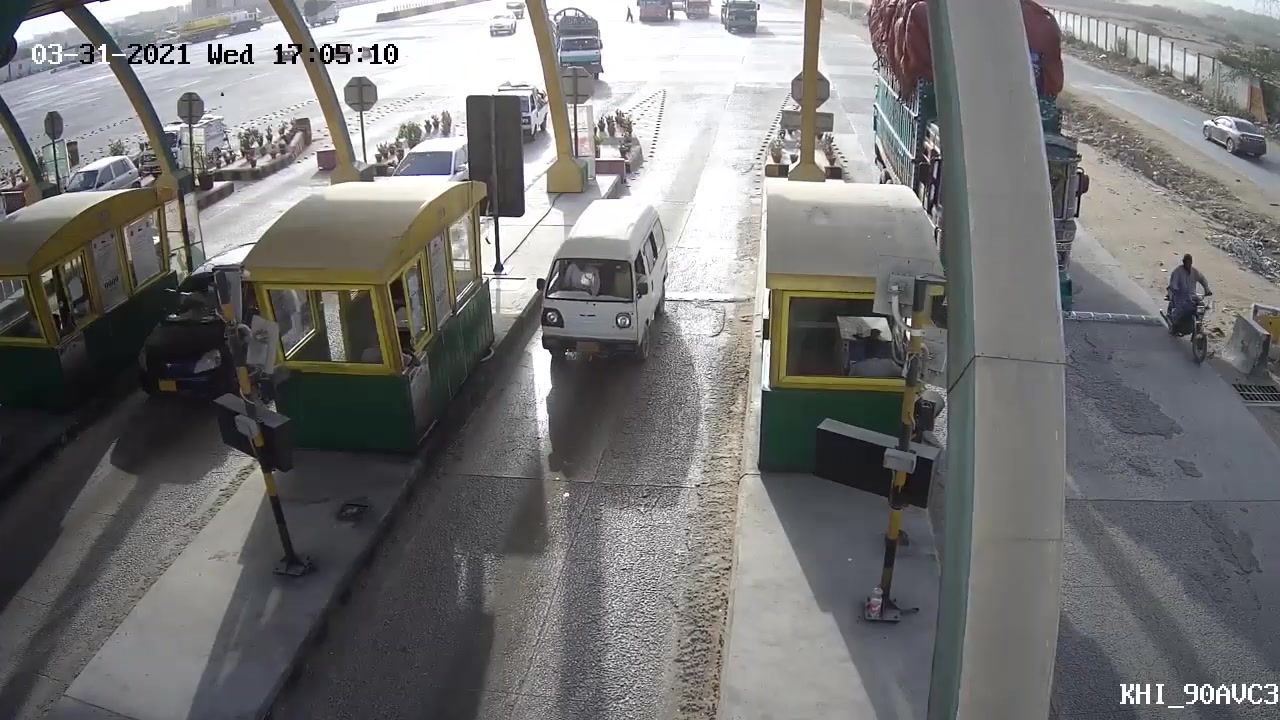F1: (529, 186, 669, 377)
